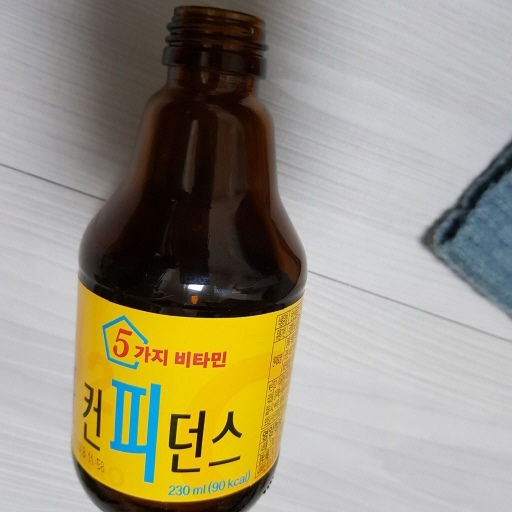Glass_3: (67, 7, 310, 512)
